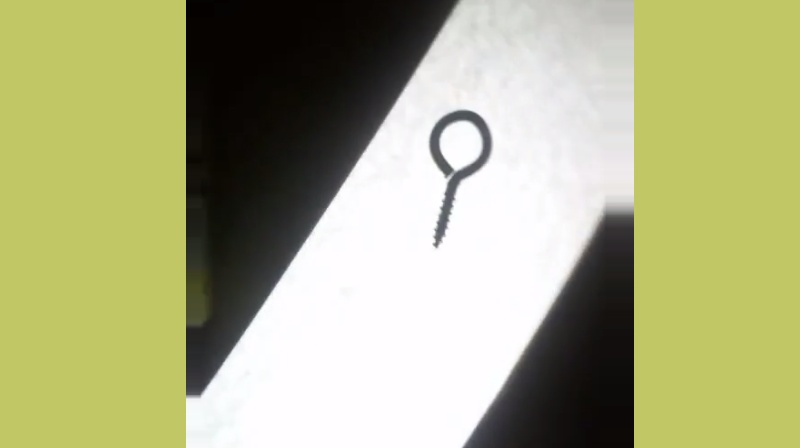O001: (424, 107, 493, 252)
